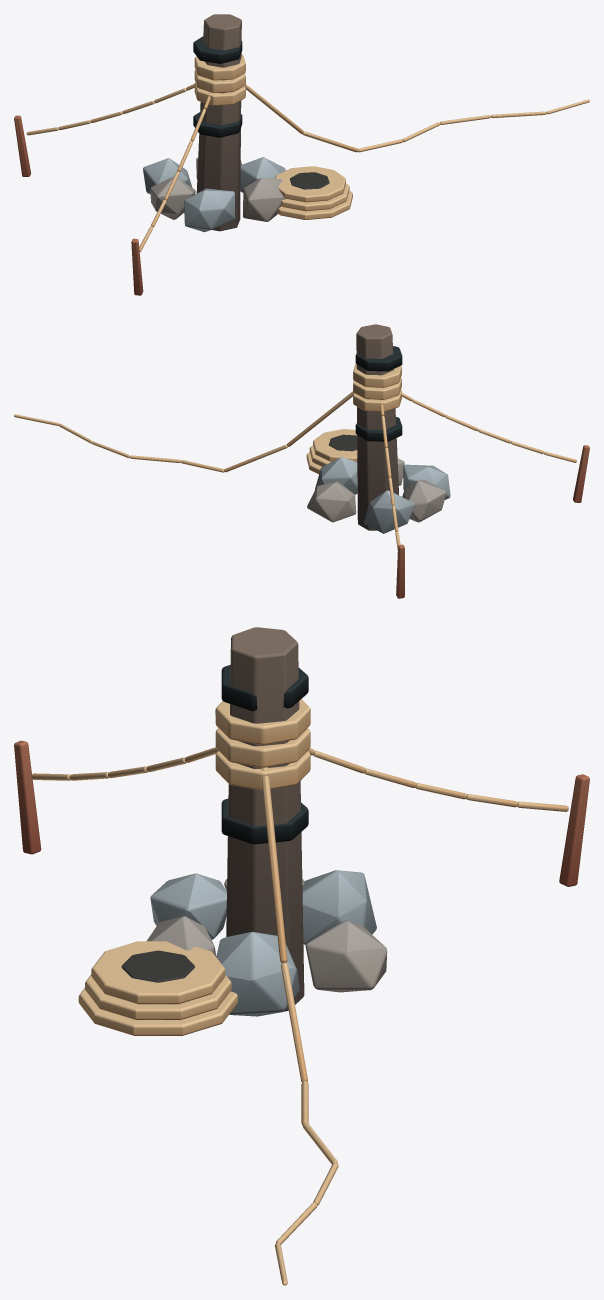
File: rope_anchor.glb
3 renders of one model, top to bottom at view 1: azimuth 30°, elevation 25°; view 2: azimuth 150°, elevation 25°; view 3: azimuth 270°, elevation 25°, orthographic. The views are drawn at different scales.
Parts seen in each view (by area): view 1: rope_anchor; view 2: rope_anchor; view 3: rope_anchor.
Part boxes in pixels (x1,y1,x2,y2): rope_anchor: [14, 14, 589, 295]; rope_anchor: [14, 324, 589, 598]; rope_anchor: [14, 627, 589, 1285].
Size of the model in its own units: 5.28 by 1.91 by 2.75.
Materials: 1 (1 with a texture image).
